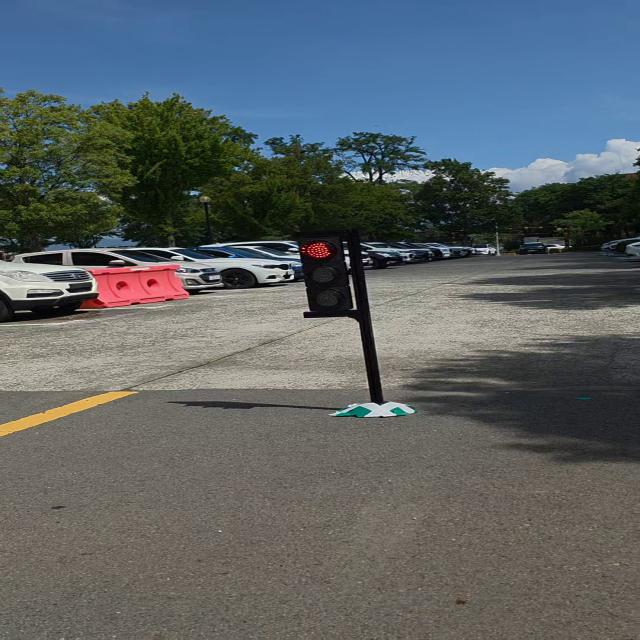red: (286, 234, 358, 316)
